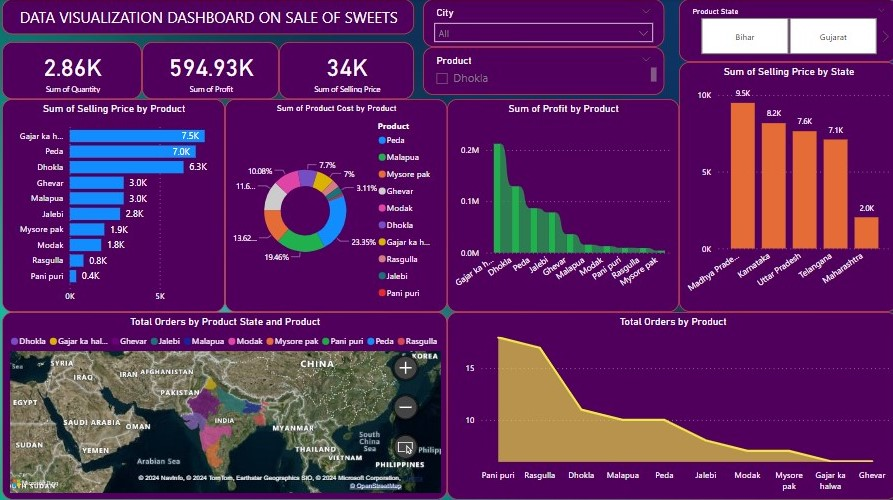

The dashboard page shown, as its layout file describes it:
{"tool":"powerbi","page":{"name":"Page 1","canvas":[1280,720],"ordinal":0},"visuals":[{"type":"donutChart","fields":{"Y":["Sum(Orders.Product Cost)"],"Category":["Orders.Product"]},"box":[326,141.7,314.6,301.9],"z":0},{"type":"stackedAreaChart","fields":{"Category":["Orders.Product"],"Y":["Orders.Total Orders"]},"box":[640.6,443.6,639.2,266.5],"z":1000},{"type":"barChart","fields":{"Category":["Orders.Product"],"Y":["Sum(Orders.Selling Price)"]},"box":[9.9,141.7,316.1,301.9],"z":2000},{"type":"clusteredColumnChart","fields":{"Y":["Sum(Orders.Selling Price)"],"Category":["Customers.State"]},"box":[969.4,89.3,310.4,354.3],"z":3000},{"type":"ribbonChart","fields":{"Category":["Orders.Product"],"Y":["Sum(Orders.Profit)"]},"box":[640.6,141.7,328.8,301.9],"z":4000},{"type":"card","fields":{"Values":["Sum(Orders.Quantity)"]},"box":[9.9,60.9,198.4,80.8],"z":5000},{"type":"card","fields":{"Values":["Sum(Orders.Profit)"]},"box":[208.3,60.9,194.2,80.8],"z":6000},{"type":"card","fields":{"Values":["Sum(Orders.Selling Price)"]},"box":[402.5,60.9,191.3,80.8],"z":7000},{"type":"textbox","box":[9.9,0,583.9,49.6],"z":8000},{"type":"slicer","fields":{"Values":["Customers.City"]},"box":[606.6,0,341.6,68],"z":9000},{"type":"slicer","fields":{"Values":["Orders.Product"]},"box":[606.6,68,341.6,68],"z":10000},{"type":"slicer","fields":{"Values":["Orders.Product State"]},"box":[969.4,0,310.4,89.3],"z":11000},{"type":"filledMap","title":" Total Orders by Product State and Product","fields":{"Series":["Orders.Product"],"Category":["Orders.Product State"]},"box":[9.9,443.6,630.7,266.5],"z":12000}]}

Visuals, with their boxes in screenshot pixels (x1, y1, x2, y2), scaled from the page's 1280x720 canvas onto the 893x500 screenshot:
donutChart - Sum(Orders.Product Cost) x Orders.Product: BBox(227, 98, 447, 308)
stackedAreaChart - Orders.Product x Orders.Total Orders: BBox(447, 308, 892, 493)
barChart - Orders.Product x Sum(Orders.Selling Price): BBox(7, 98, 227, 308)
clusteredColumnChart - Sum(Orders.Selling Price) x Customers.State: BBox(676, 62, 892, 308)
ribbonChart - Orders.Product x Sum(Orders.Profit): BBox(447, 98, 676, 308)
card - Sum(Orders.Quantity): BBox(7, 42, 145, 98)
card - Sum(Orders.Profit): BBox(145, 42, 281, 98)
card - Sum(Orders.Selling Price): BBox(281, 42, 414, 98)
textbox: BBox(7, 0, 414, 34)
slicer - Customers.City: BBox(423, 0, 662, 47)
slicer - Orders.Product: BBox(423, 47, 662, 94)
slicer - Orders.Product State: BBox(676, 0, 892, 62)
" Total Orders by Product State and Product" filledMap: BBox(7, 308, 447, 493)
